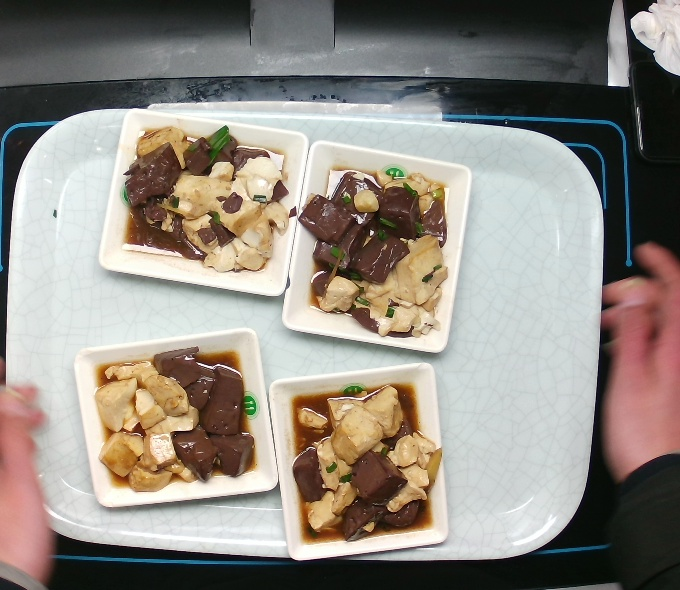wcq-DouFuMiuXue: (301, 156, 464, 342), (111, 115, 299, 274), (86, 339, 266, 495), (286, 376, 451, 546)
